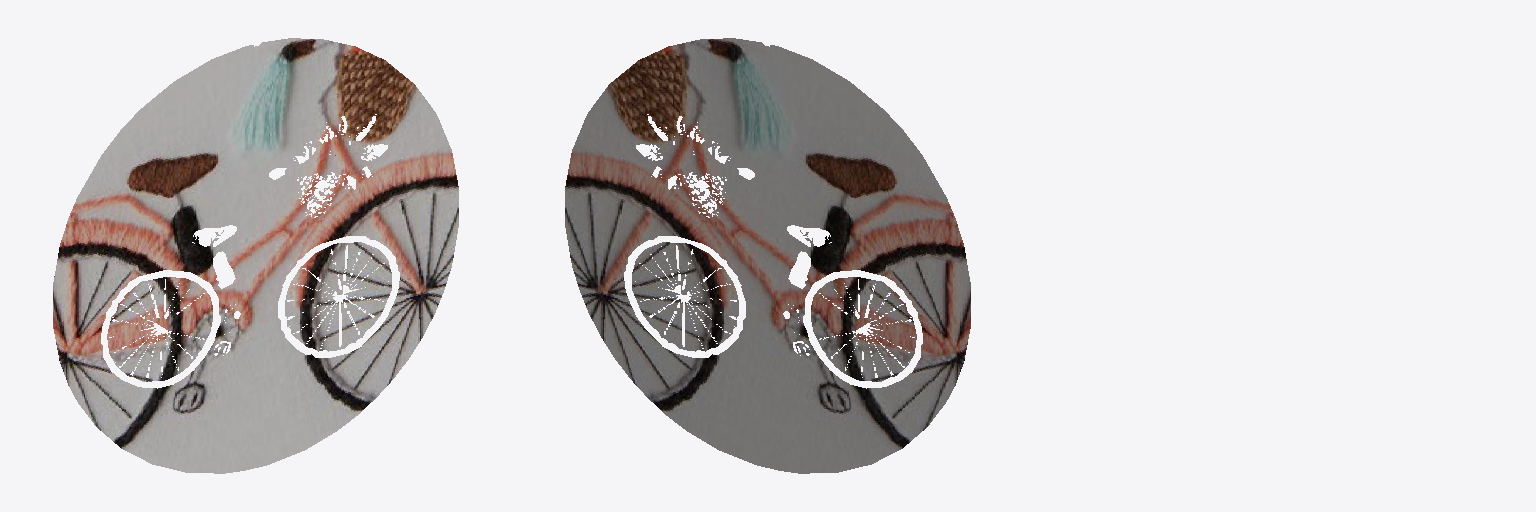
3 renders of one model, left to right at view 1: azimuth 30°, elevation 25°; view 2: azimuth 150°, elevation 25°; view 3: azimuth 270°, elevation 25°, orthographic.
Visible parts, largest first — view 1: Object.1, Object.3, Object.2; view 2: Object.1, Object.3, Object.2; view 3: none.
Boxes of the visible parts, <box> form: Object.1: <box>53,38,458,473</box>; Object.3: <box>285,242,391,351</box>; Object.2: <box>107,277,212,381</box>; Object.1: <box>565,38,970,473</box>; Object.3: <box>632,242,738,351</box>; Object.2: <box>811,277,916,381</box>.
Bounding box in the file's own units: 152 × 152 × 0.001.
Materials: 1 (1 with a texture image).